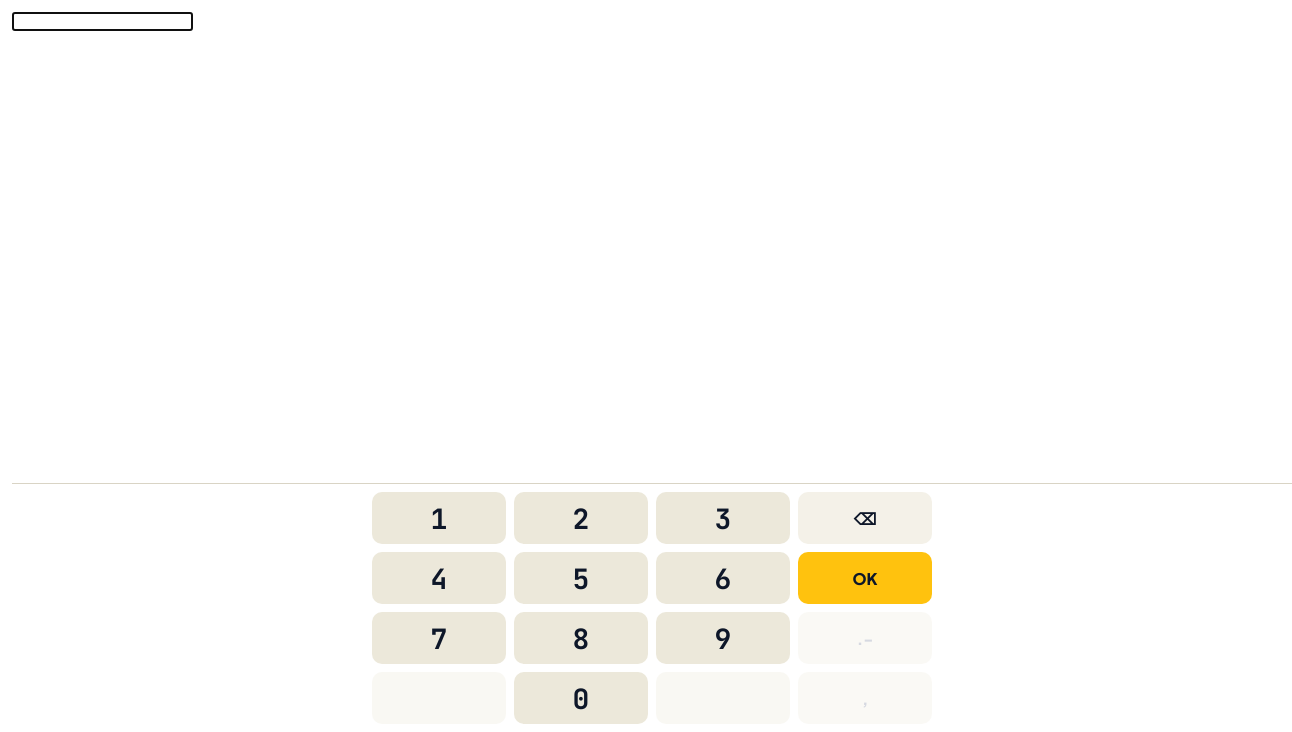
Test case: TecladoProvider › não insere o que a regra do campo recusa e respeita o maxLength
Step 1. Click the button "1" → (439, 518), box [372,492,506,544]
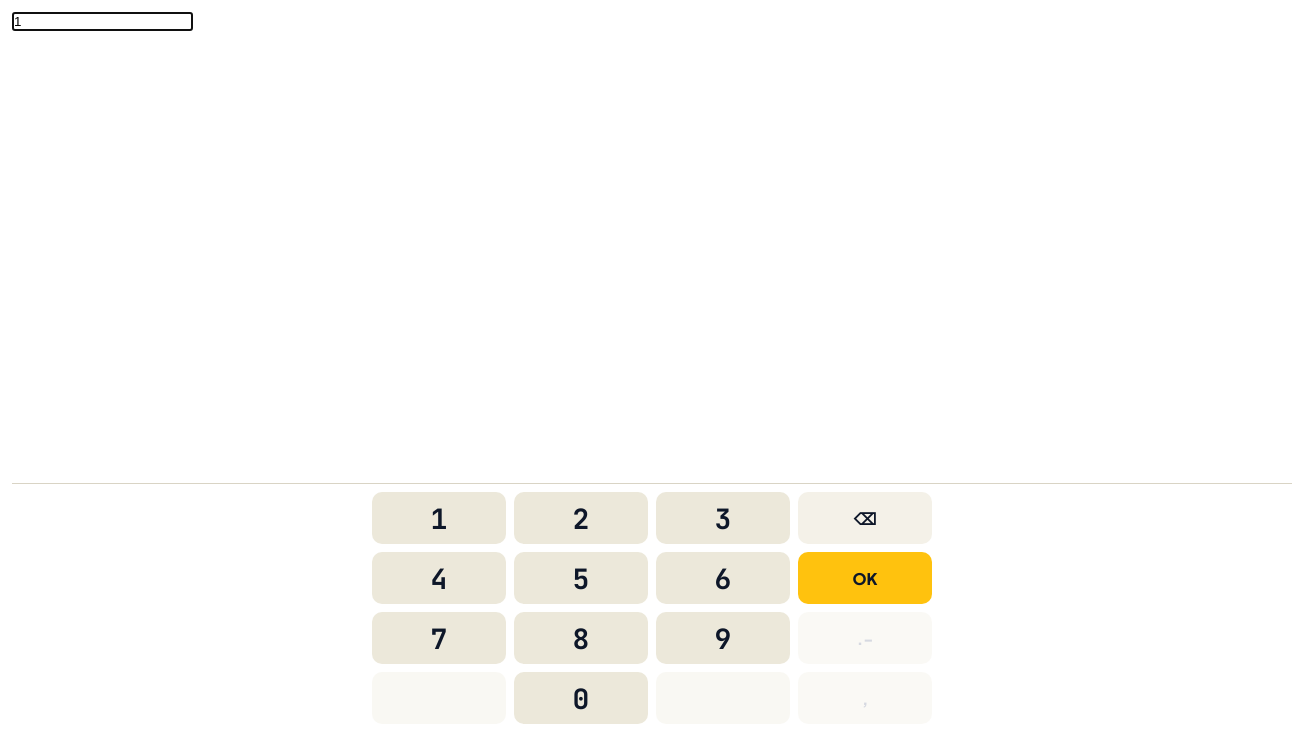
Step 2. Click the button "2" → (581, 518), box [514,492,648,544]
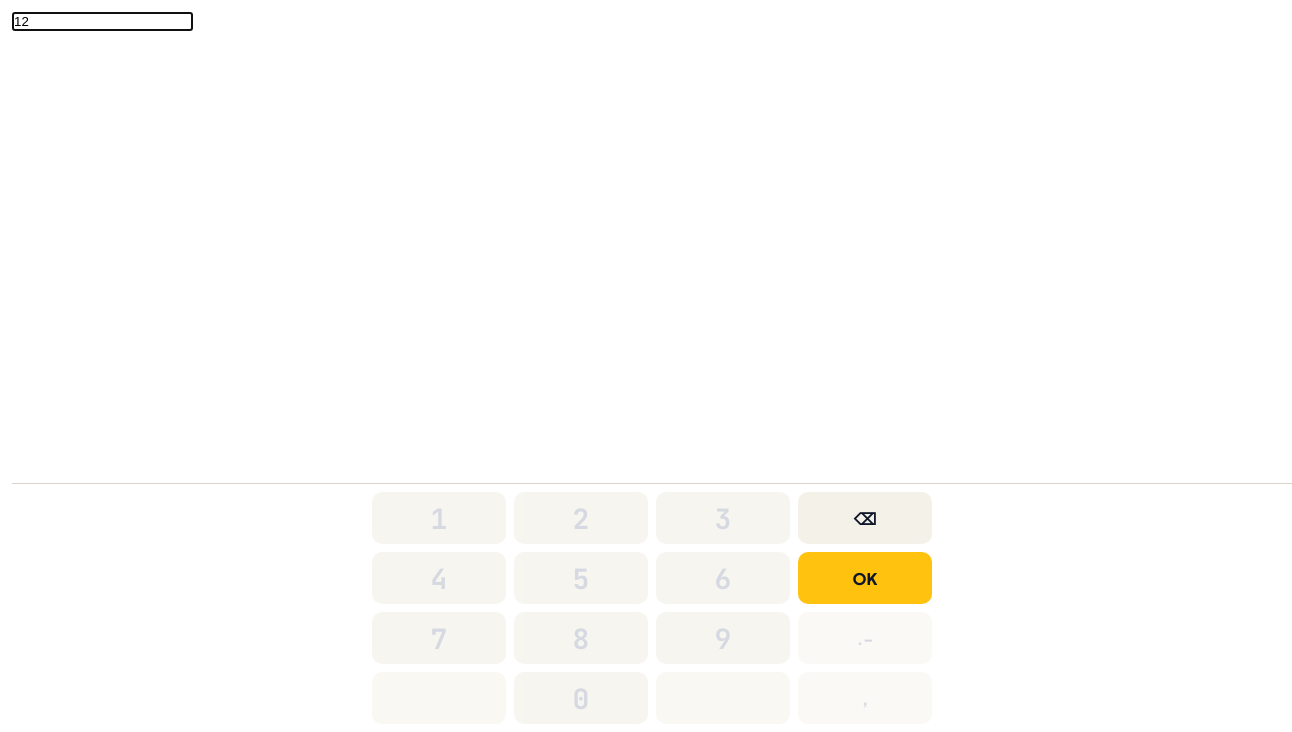
Expected: the button "3" is disabled, [656,492,790,544]
Expected: the field named "valor" holds "12", [12,12,193,31]
